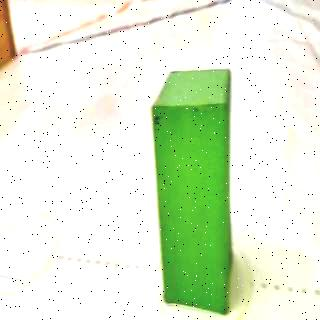greenbox: (150, 69, 232, 318)
